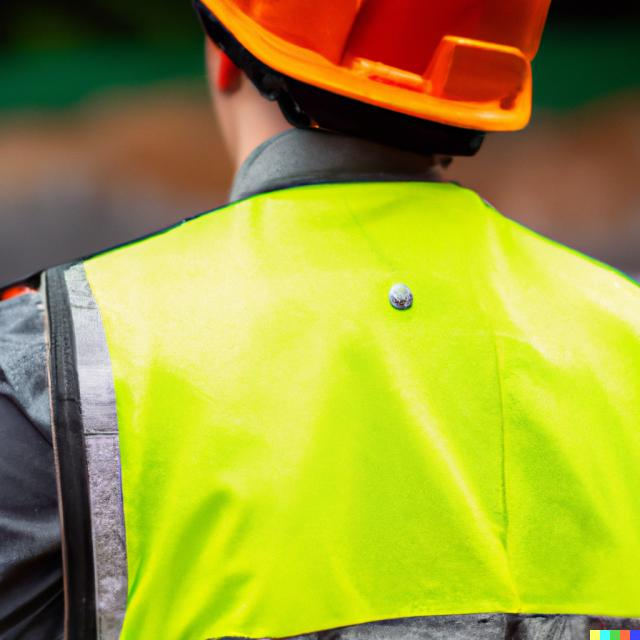Reflective-Jacket: (61, 144, 640, 640)
Safety-Helmet: (184, 0, 605, 136)
